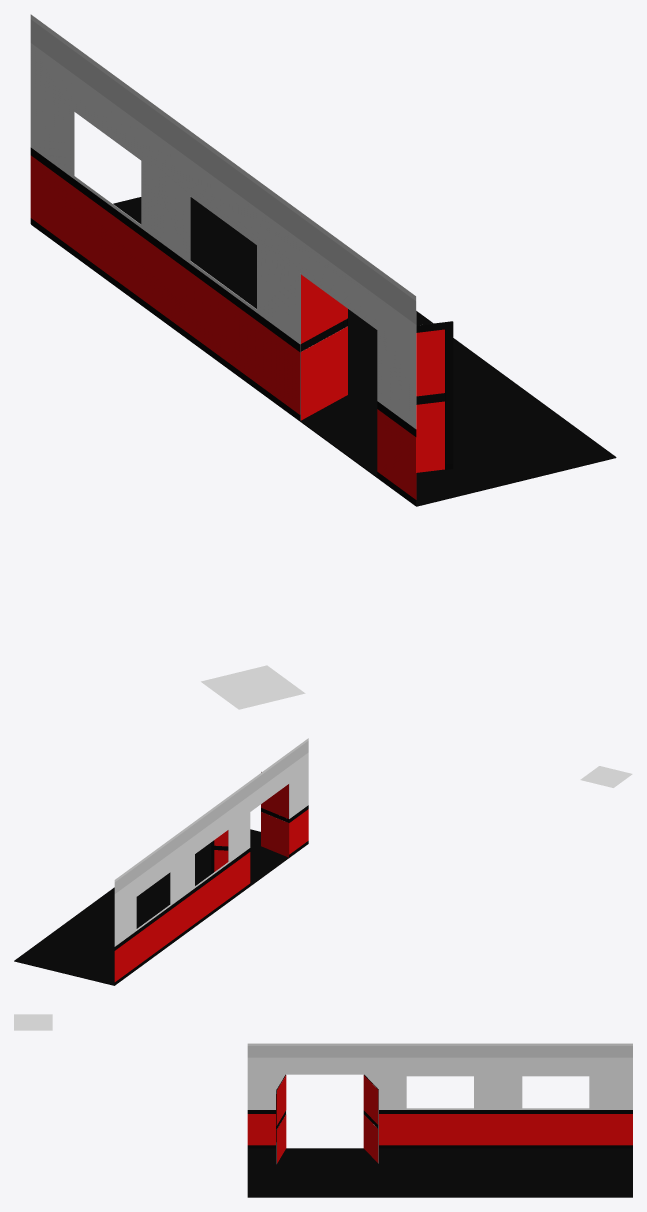
Rendered from SceneFrontWall.fbx.
The picture shows the model from 3 angles, top to bottom: view 1: azimuth 30°, elevation 25°; view 2: azimuth 150°, elevation 25°; view 3: azimuth 270°, elevation 25°; orthographic projection. The views are drawn at different scales.
Visible parts, largest first — view 1: RightWall.003, RightWall.006, RightWall.005, RightWall.004, Plane; view 2: RightWall.003, RightWall.006, RightWall.004, Plane, RightWall.005; view 3: RightWall.003, RightWall.006, RightWall.005, RightWall.004, Plane.
Boxes of the visible parts, x1,y1,x2,y2 form: RightWall.003: (30,14,416,505); RightWall.006: (31,197,616,506); RightWall.005: (300,274,347,420); RightWall.004: (416,321,453,472); Plane: (201,665,305,709); RightWall.003: (114,738,308,984); RightWall.006: (14,829,307,985); RightWall.004: (261,772,288,857); Plane: (580,766,632,787); RightWall.005: (211,830,228,874); RightWall.003: (247,1043,632,1148); RightWall.006: (247,1148,632,1197); RightWall.005: (363,1074,378,1163); RightWall.004: (276,1074,286,1164); Plane: (14,1014,52,1030).
Bounding box in the file's own units: 1831 × 603 × 3213.
